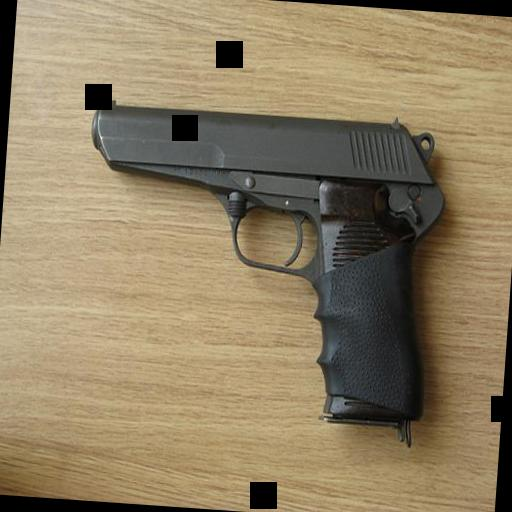Handgun: (67, 94, 452, 427)
